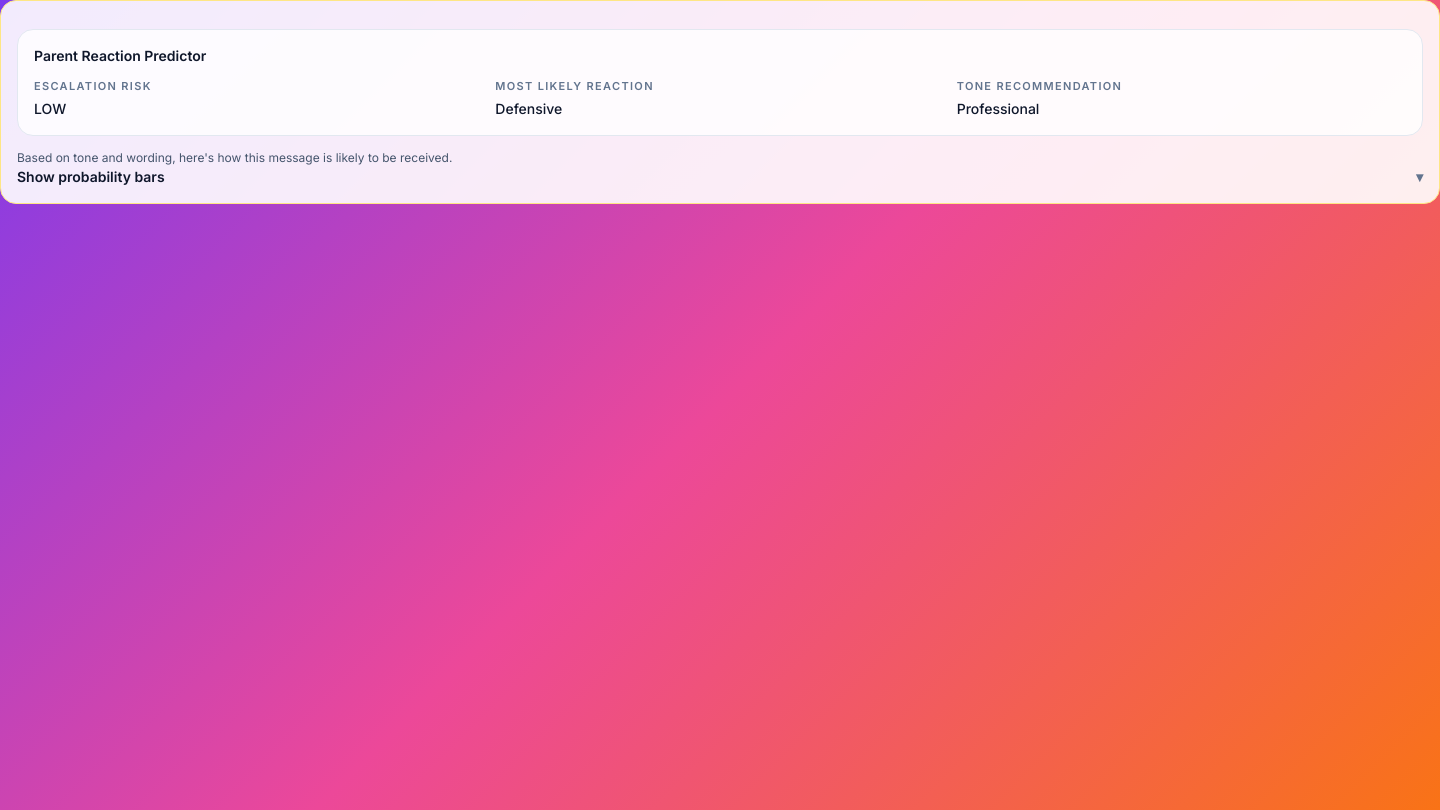
ReactionForecast › only renders the supported reaction categories in expanded mode
This screenshot has width=1440, height=810.
Click the button "Show probability bars ▾": (91, 176) [17,167,1423,187]
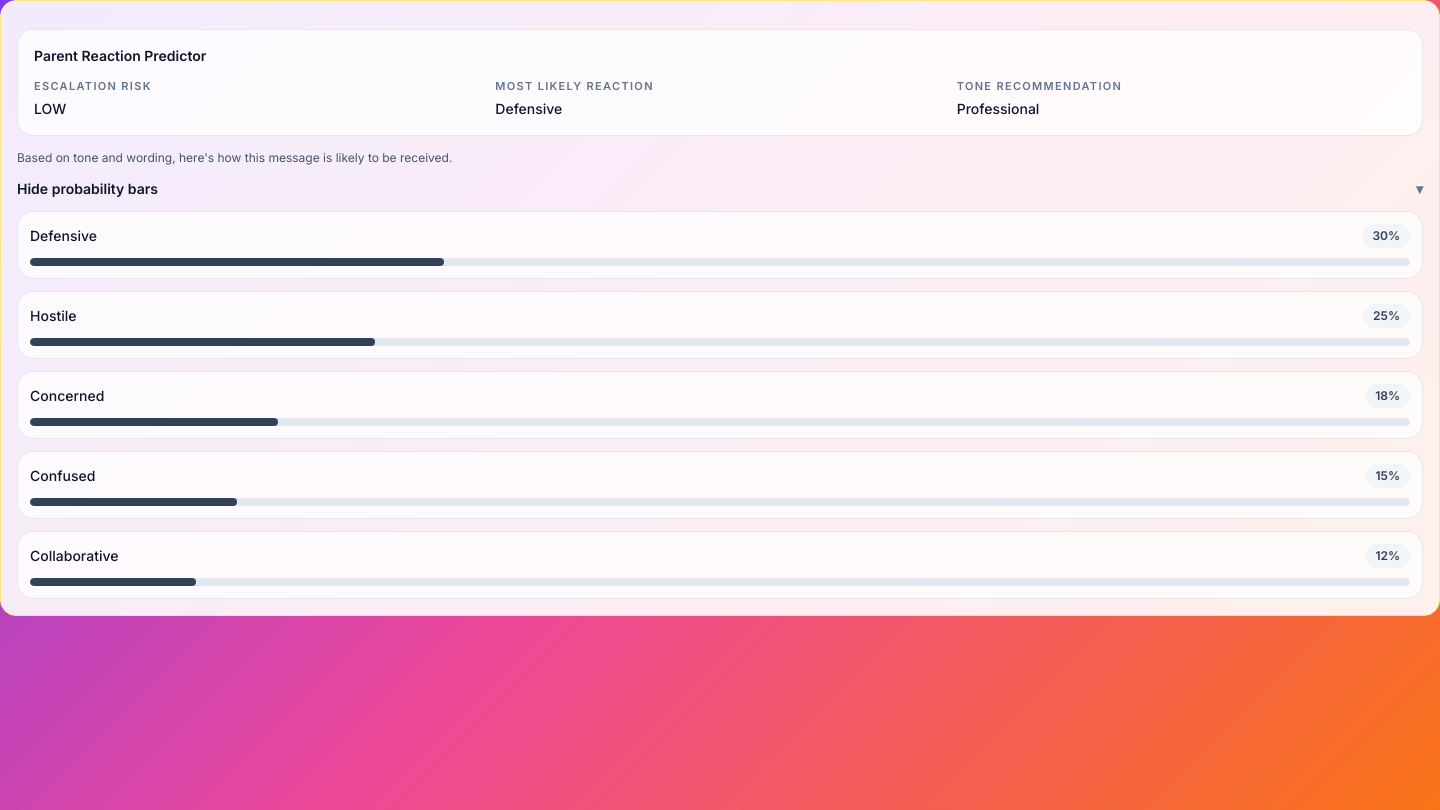
Expected: the text "Hostile" is shown, [30,306,76,326]
Expected: the text "Confused" is shown, [30,466,95,486]
Expected: the text "Concerned" is shown, [30,386,104,406]
